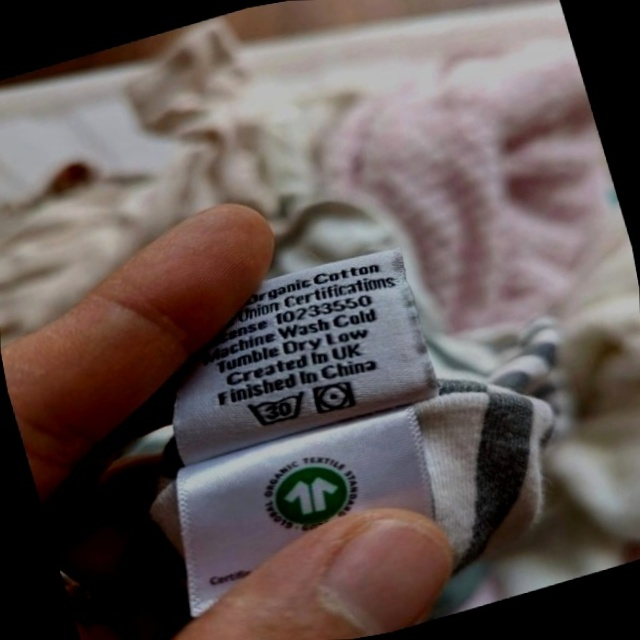30C: (240, 383, 314, 436)
tumble_dry_low: (307, 374, 361, 421)
